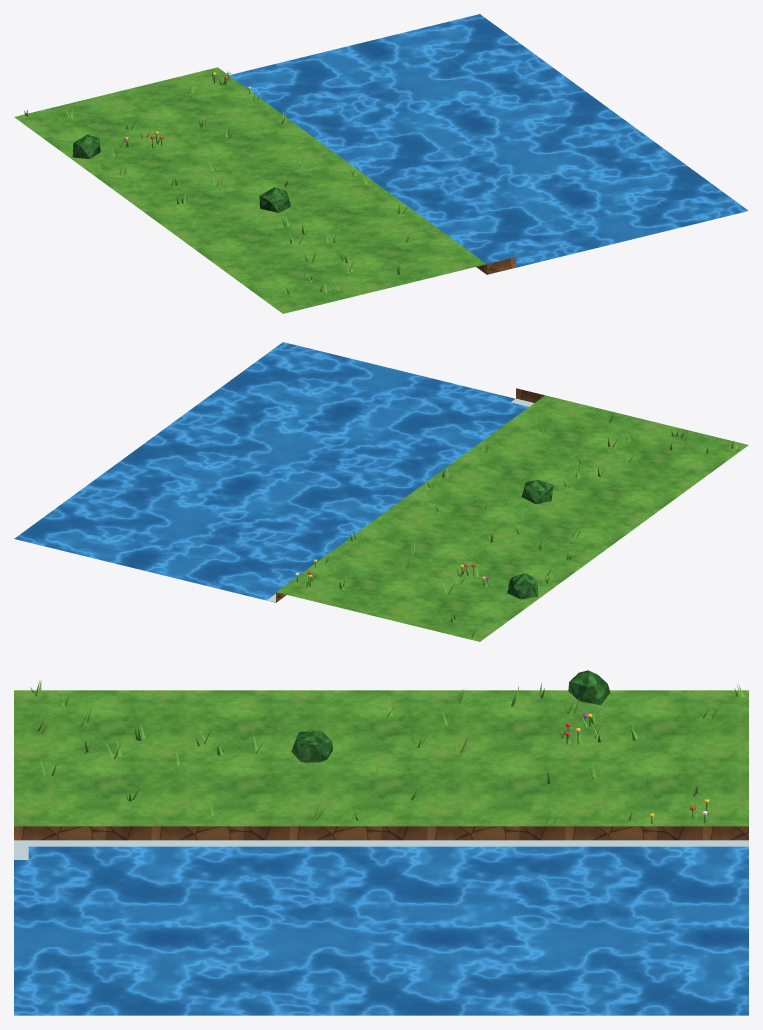
The model's file is chunk_3_13.glb.
3 renders of one model, top to bottom at view 1: azimuth 30°, elevation 25°; view 2: azimuth 150°, elevation 25°; view 3: azimuth 270°, elevation 25°, orthographic. The views are drawn at different scales.
Parts seen in each view (by area): view 1: chunk_3_13; view 2: chunk_3_13; view 3: chunk_3_13.
Part boxes in pixels (bbox=[...]): chunk_3_13: bbox=[14, 14, 748, 313]; chunk_3_13: bbox=[14, 342, 748, 641]; chunk_3_13: bbox=[14, 670, 748, 1015].
Size of the model in its own units: 16.07 by 1.07 by 16.
Materials: 12 (6 with a texture image).
